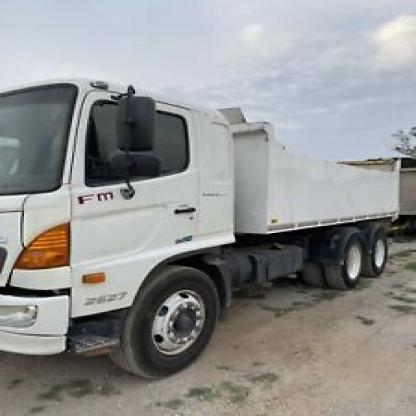dump_truck: (0, 72, 414, 377)
